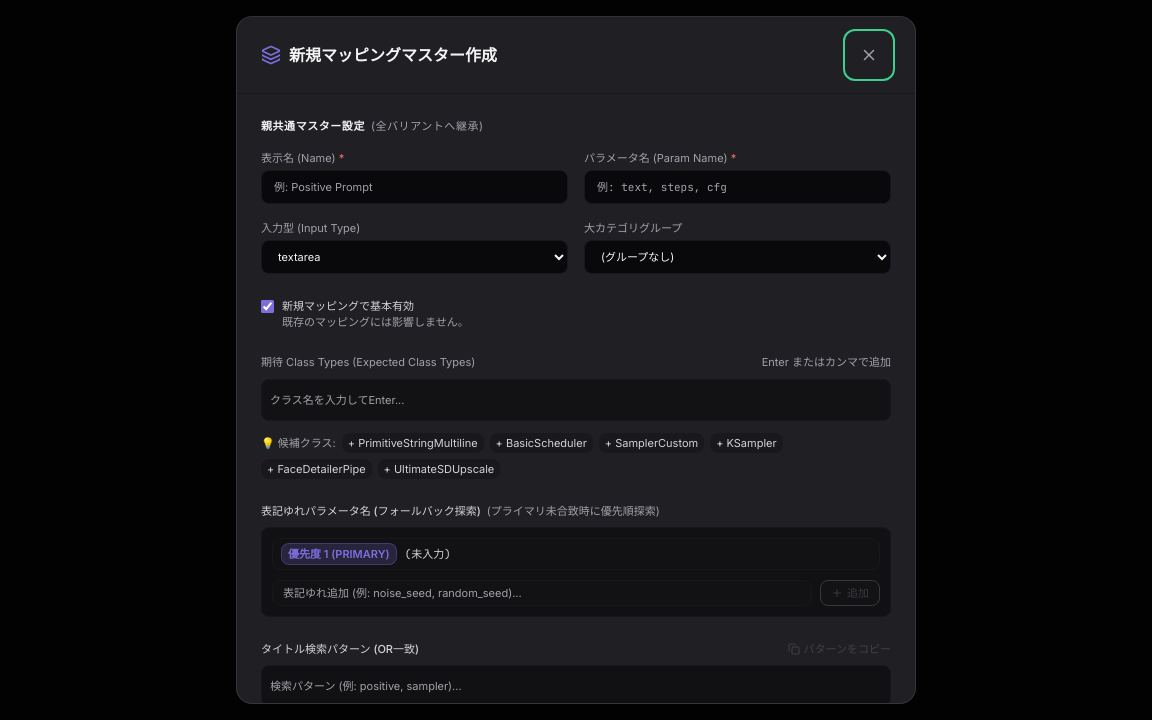
Test: MappingMasterEditModal Dynamic ClassType Autocomplete Dropdown › allows manual input and static candidate palette when ComfyUI is in error or disconnected
This screenshot has width=1152, height=720.
Note: Manual input works
In the field with placeholder "クラス名を入力してEnter...": [576, 400] box [270, 392, 882, 408], type "CustomManualNode"
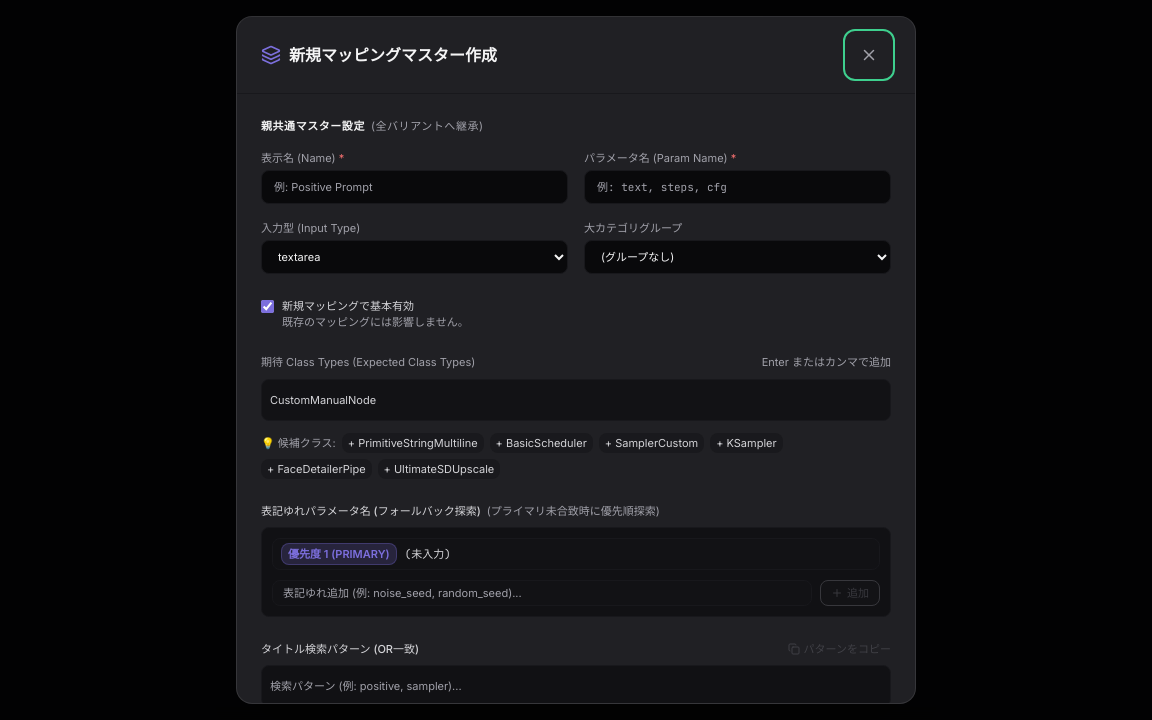
Press Enter in the field with placeholder "クラス名を入力してEnter...", box [270, 392, 882, 408]
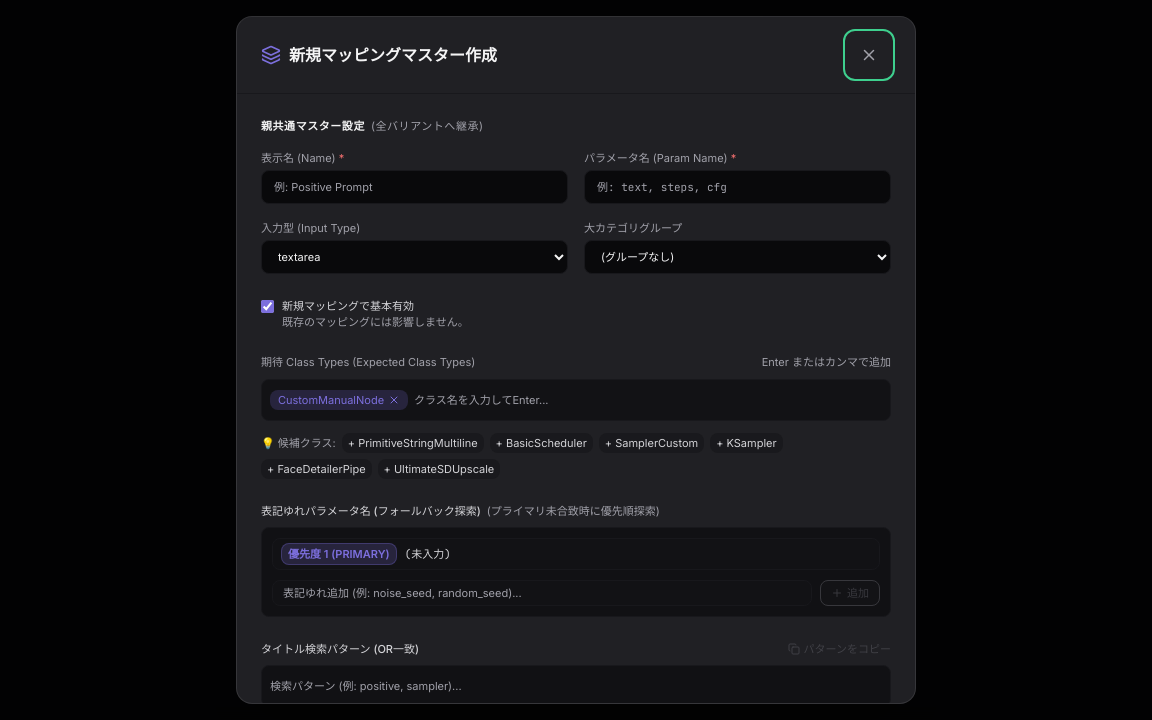
Result: the button named "CustomManualNode を削除" is shown at [388, 394, 400, 406]
Result: the field with placeholder "クラス名を入力してEnter..." is empty at [414, 392, 882, 408]
Note: Static palette works
Click the button "+ KSampler": [746, 442] box [710, 432, 783, 452]
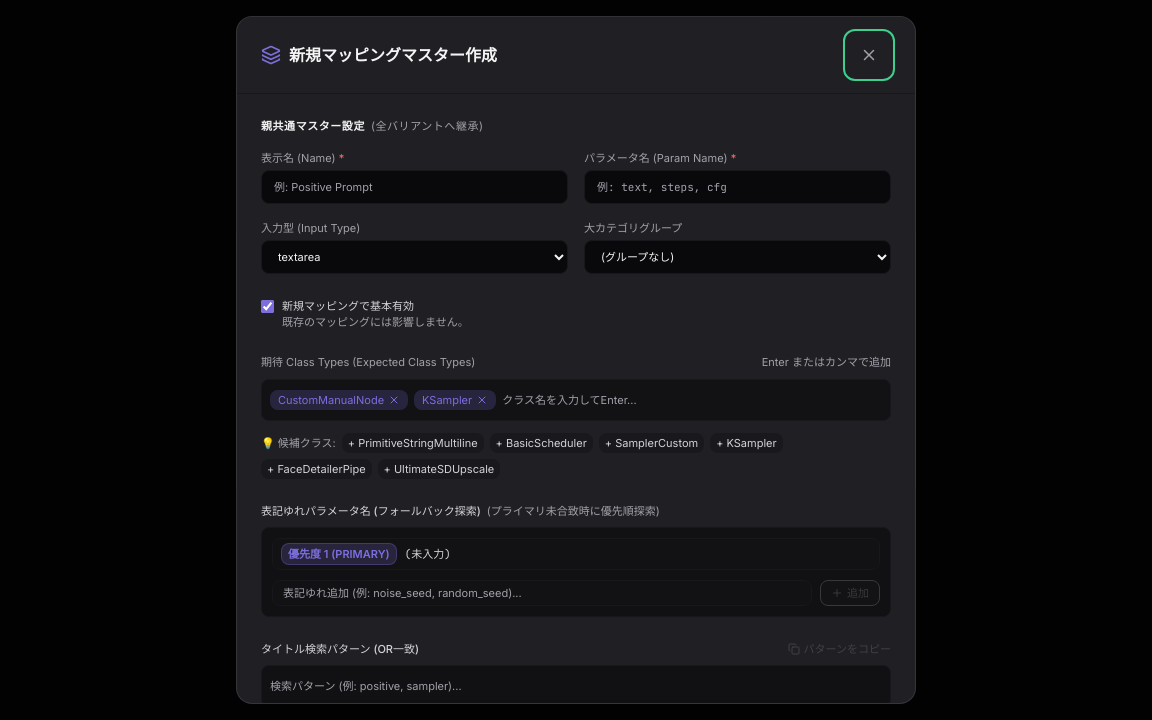
Result: the button named "KSampler を削除" is shown at [476, 394, 488, 406]
